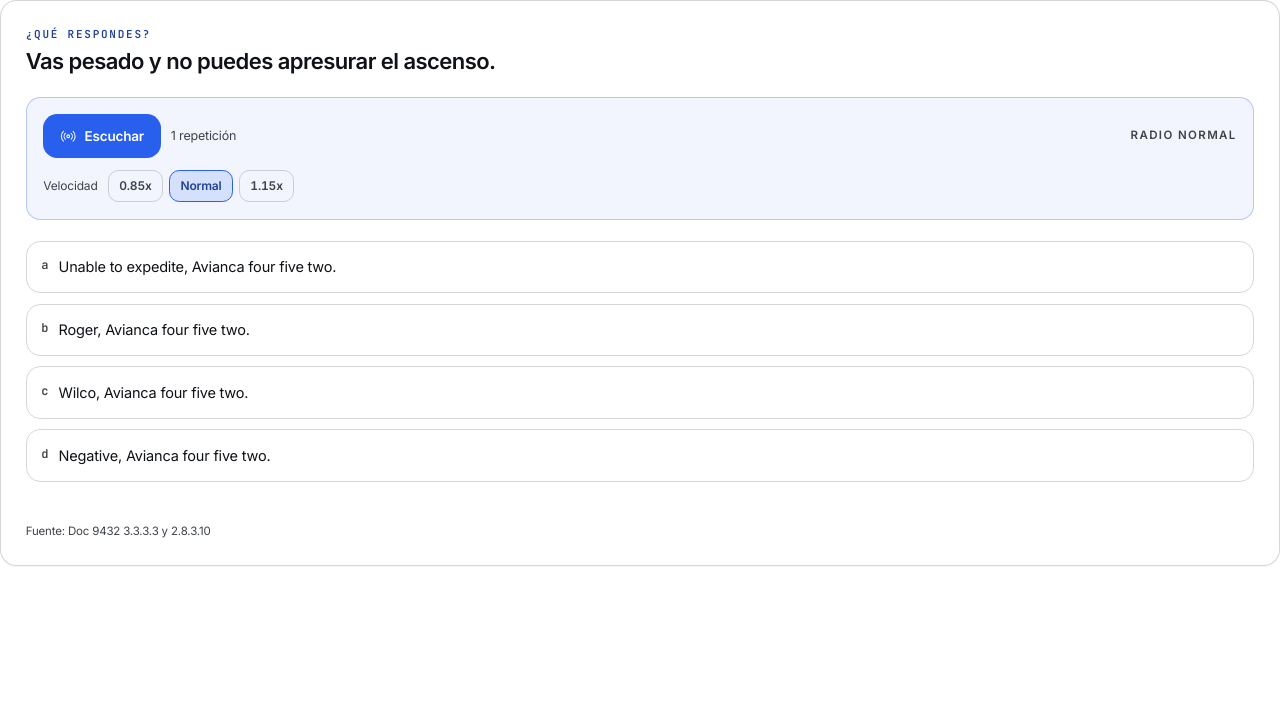
interacción › el control de radio suena, cuenta la repetición y se bloquea al agotarlas
Click the button "Escuchar" at {"x": 102, "y": 136}, box [43,114,161,158]
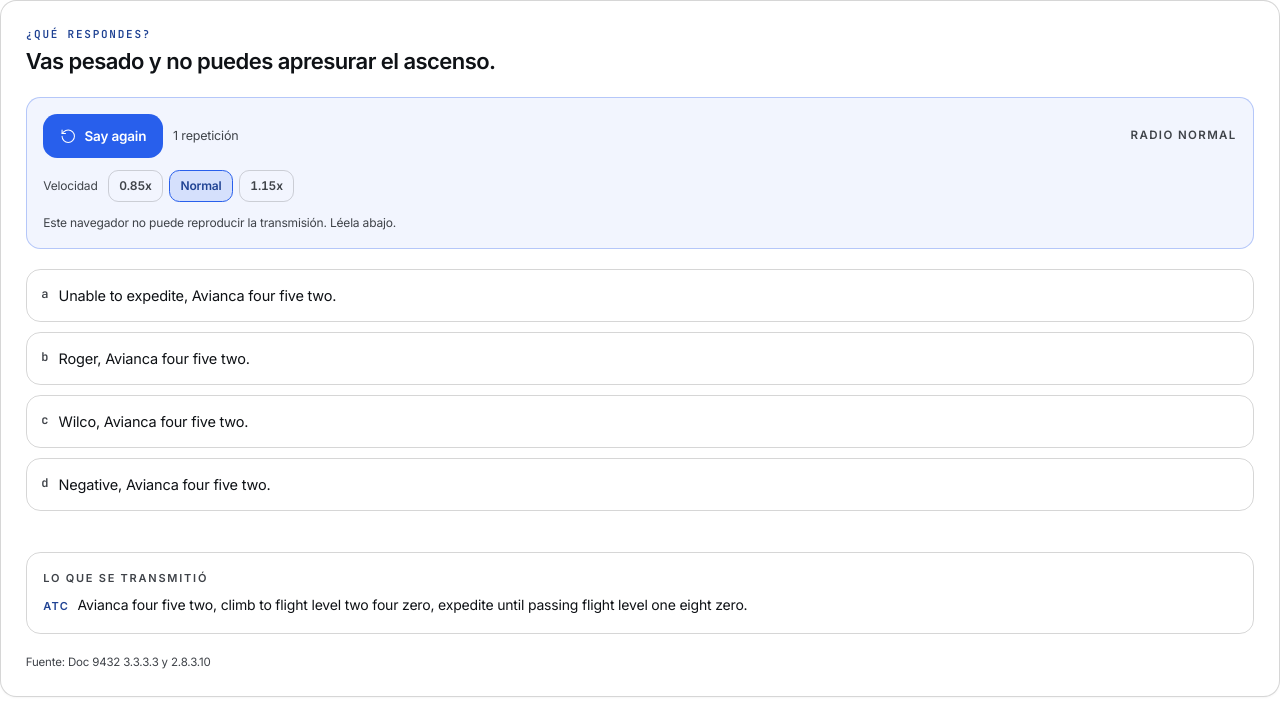
Expected: the text "1 repetición" is shown, [173,127,238,146]
Click the button "Say again" at {"x": 103, "y": 136}, box [43,114,163,158]
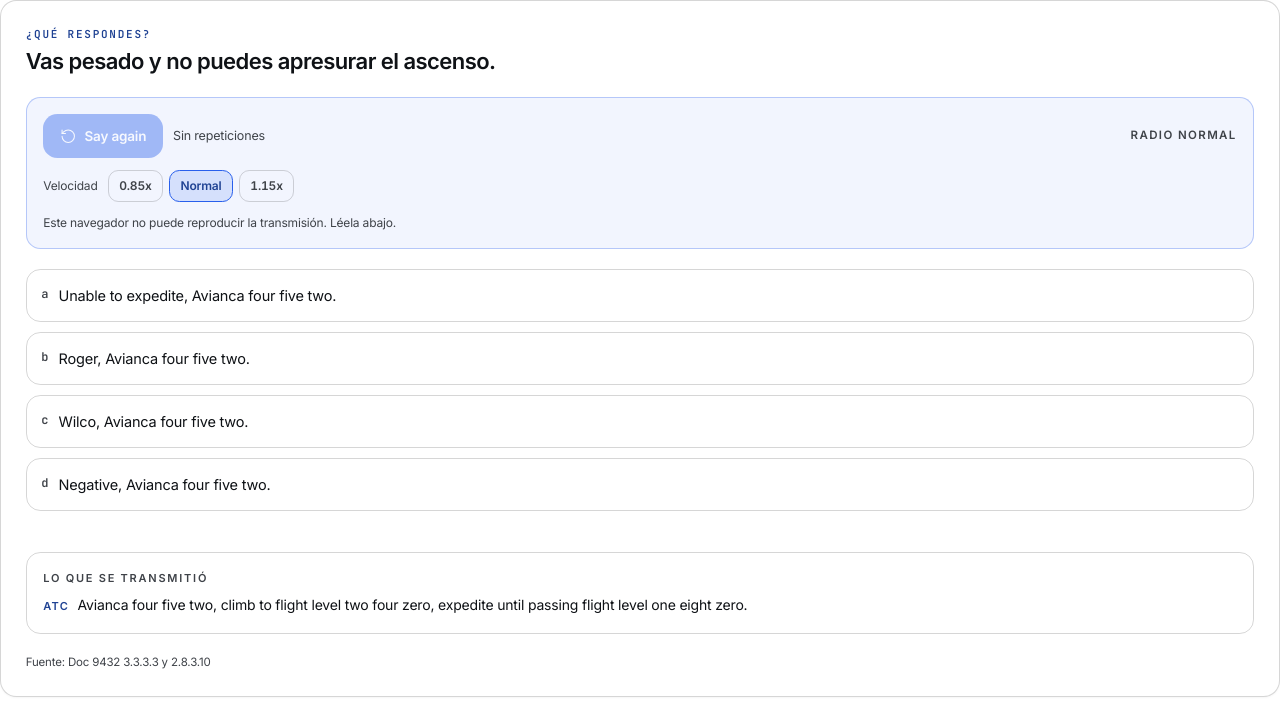
Now the button "Say again" is disabled, box [43,114,163,158]
